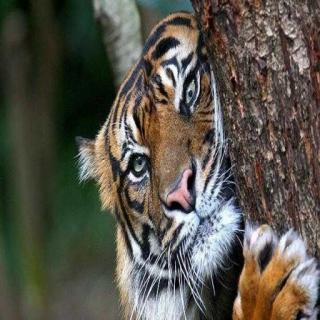Tiger: (85, 1, 298, 320)
